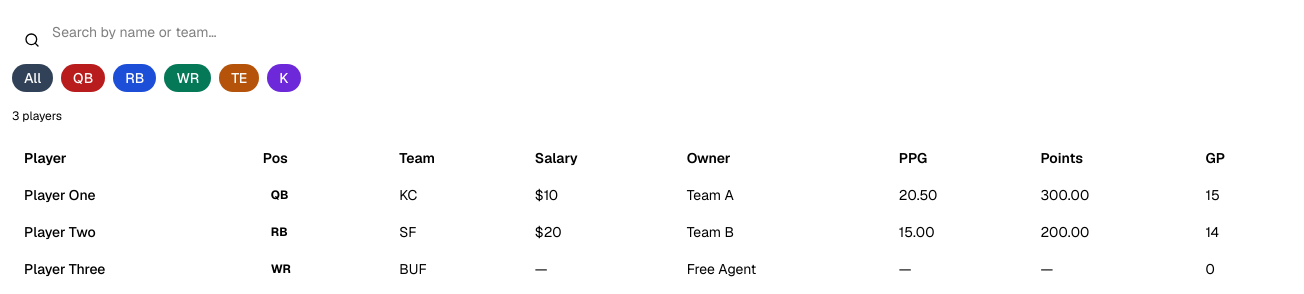
it: PlayerSearch › shows empty state when no matches found
Type "NonExistent" into the field at point(652, 32), box top-left (12, 12), bottom-right (1292, 52)
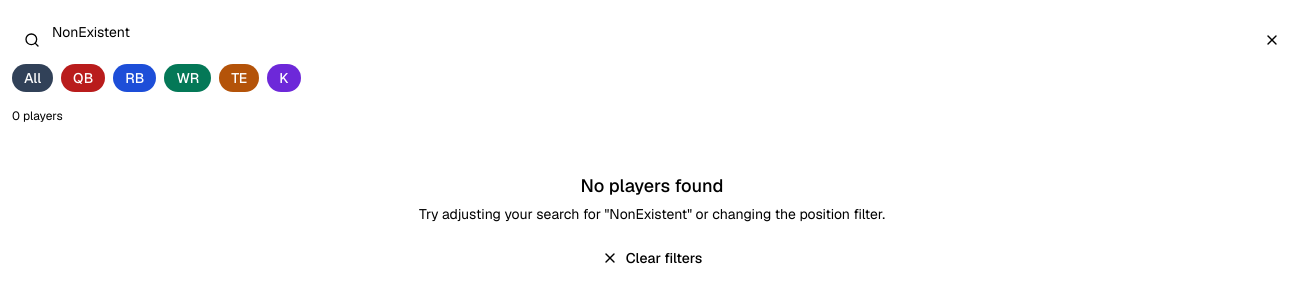
Check: the text "No players found" is shown, box top-left (581, 174), bottom-right (723, 197)
